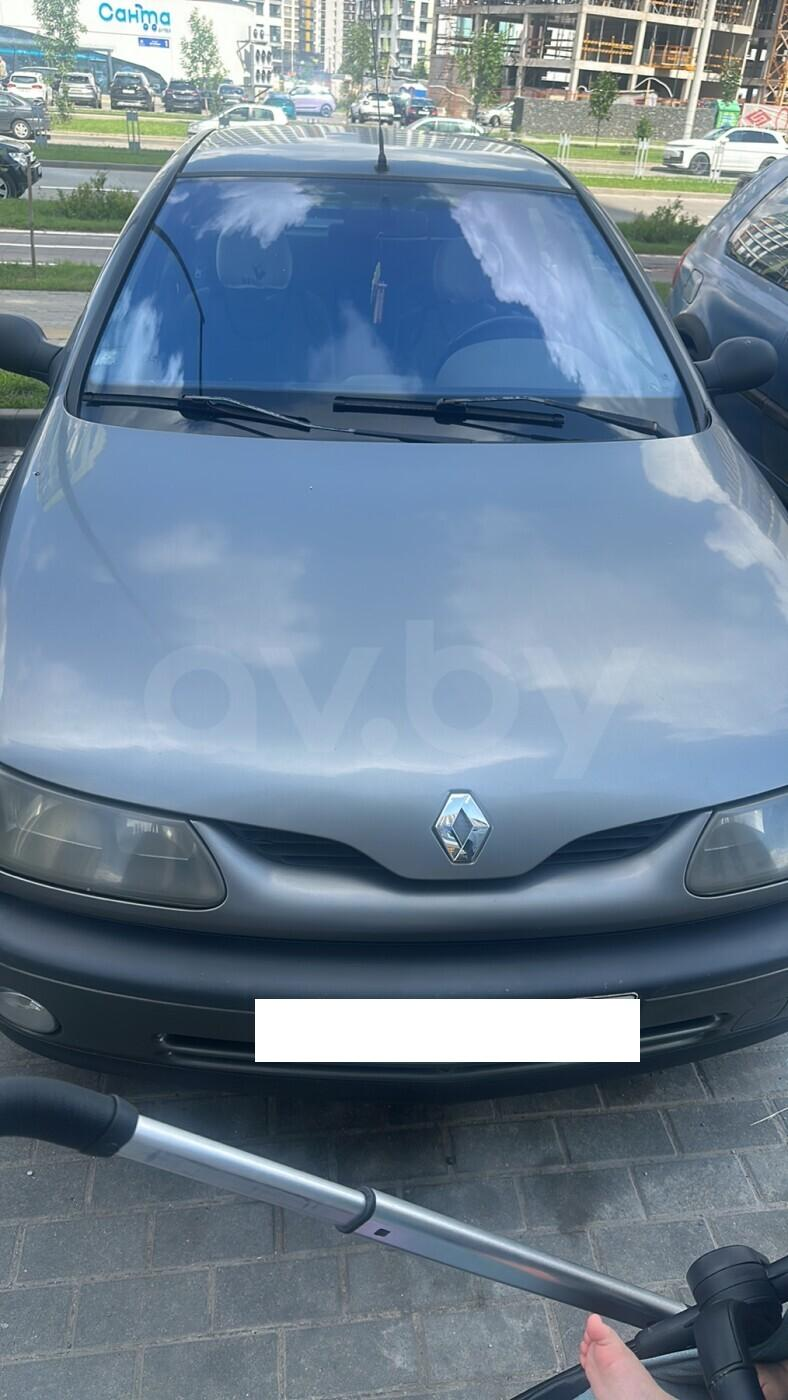Laguna_1998-2001: (4, 108, 788, 1152)
